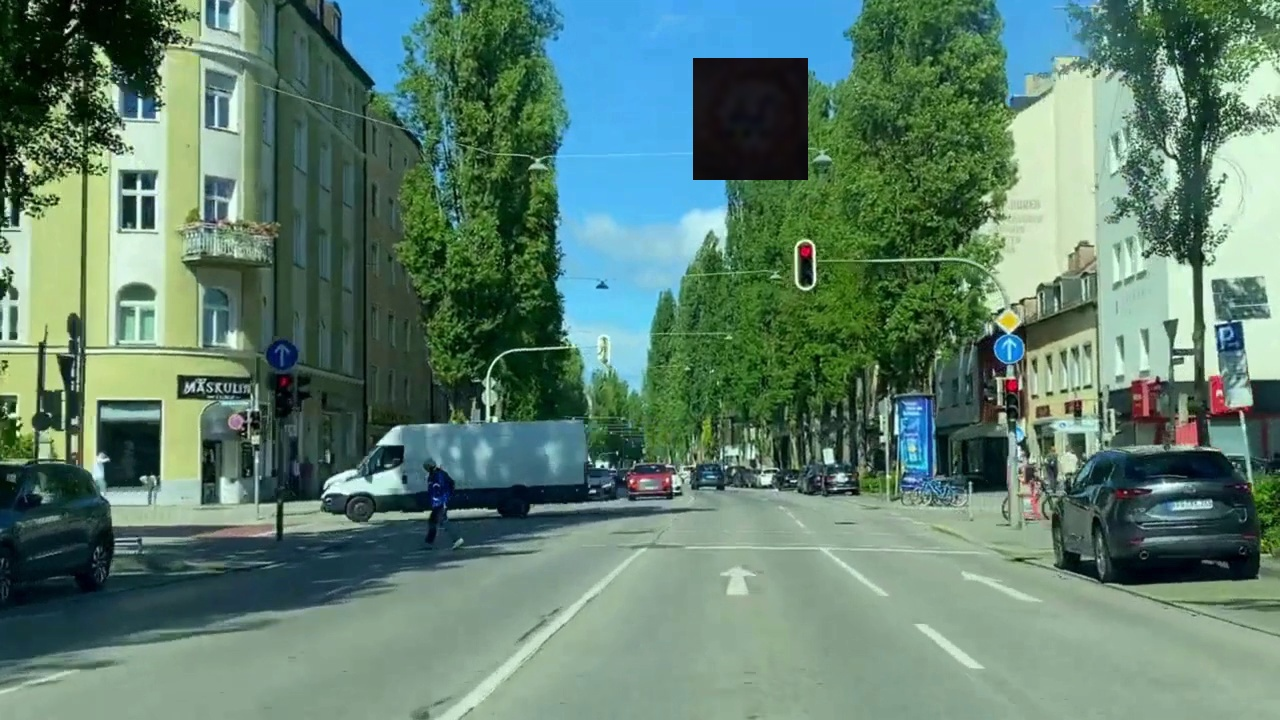Speed 60: (693, 58, 808, 180)
